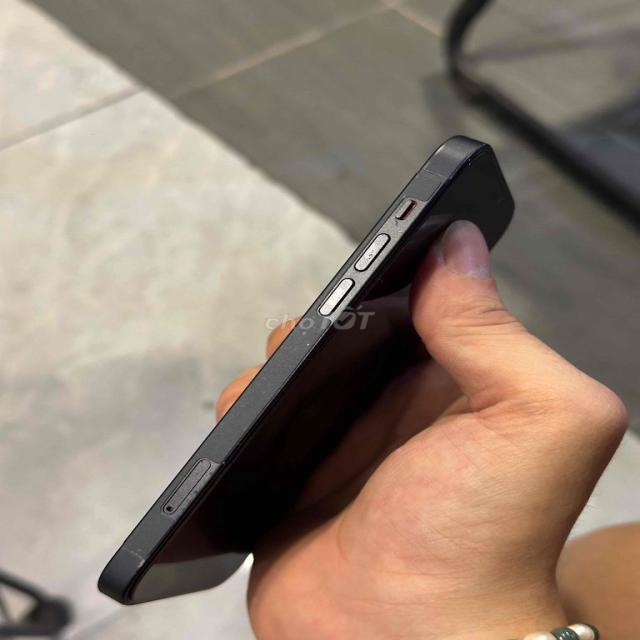gen_12_13: (105, 128, 516, 616)
